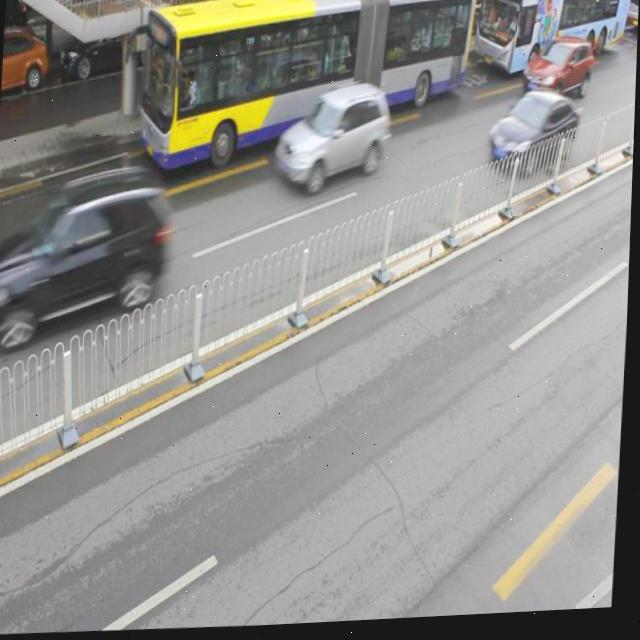car: (0, 169, 166, 349), (275, 84, 391, 197), (486, 91, 580, 177), (57, 11, 155, 87), (522, 37, 593, 108), (169, 0, 248, 62), (1, 22, 52, 102), (271, 0, 344, 50)
van: (139, 0, 475, 176), (478, 0, 638, 81)
